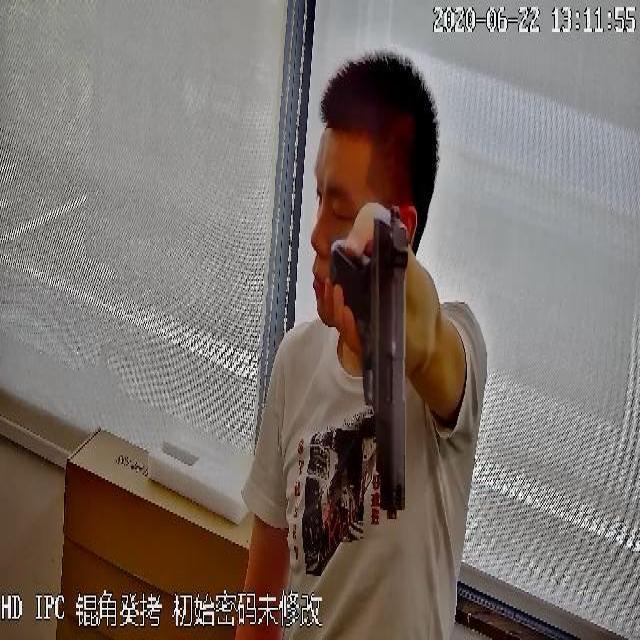pistol: (329, 208, 408, 518)
